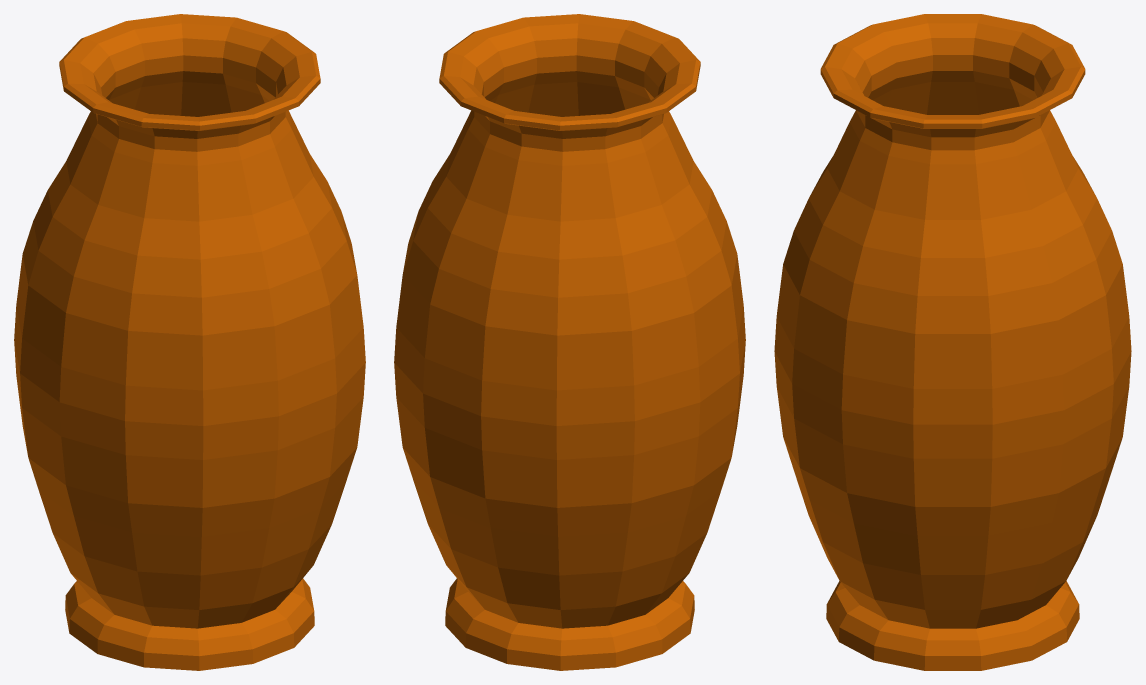
File: Urn_New_02.fbx
3 renders of one model, left to right at view 1: azimuth 30°, elevation 25°; view 2: azimuth 150°, elevation 25°; view 3: azimuth 270°, elevation 25°, orthographic.
Visible parts, largest first — view 1: Model; view 2: Model; view 3: Model.
Boxes of the visible parts, x1,y1,x2,y2 form: Model: [14, 14, 365, 670]; Model: [394, 14, 745, 670]; Model: [774, 14, 1131, 670].
Bounding box in the file's own units: 88.85 × 155 × 91.13.
